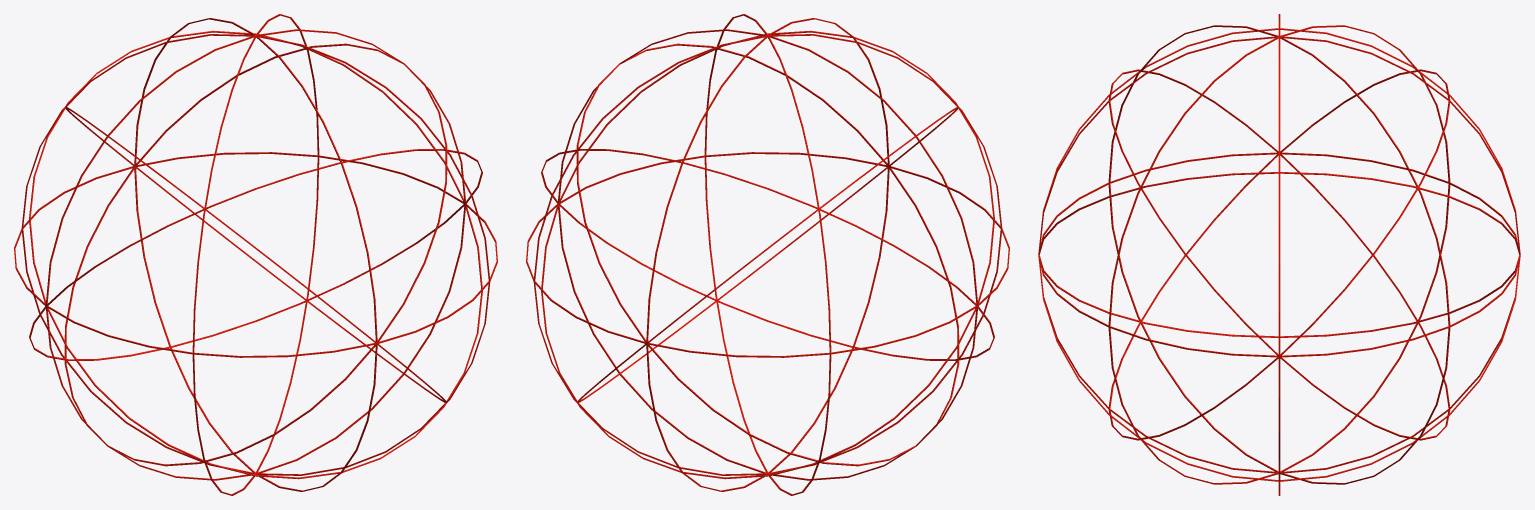
The model's file is PointLight.obj.
The picture shows the model from 3 angles, left to right: view 1: azimuth 30°, elevation 25°; view 2: azimuth 150°, elevation 25°; view 3: azimuth 270°, elevation 25°; orthographic projection.
Parts seen in each view (by area): view 1: Cylinder.015; view 2: Cylinder.015; view 3: Cylinder.015.
Part boxes in pixels (x1,y1,x2,y2): Cylinder.015: [14, 14, 497, 495]; Cylinder.015: [526, 14, 1009, 495]; Cylinder.015: [1038, 14, 1520, 495].
Size of the model in its own units: 2 by 2 by 2.
